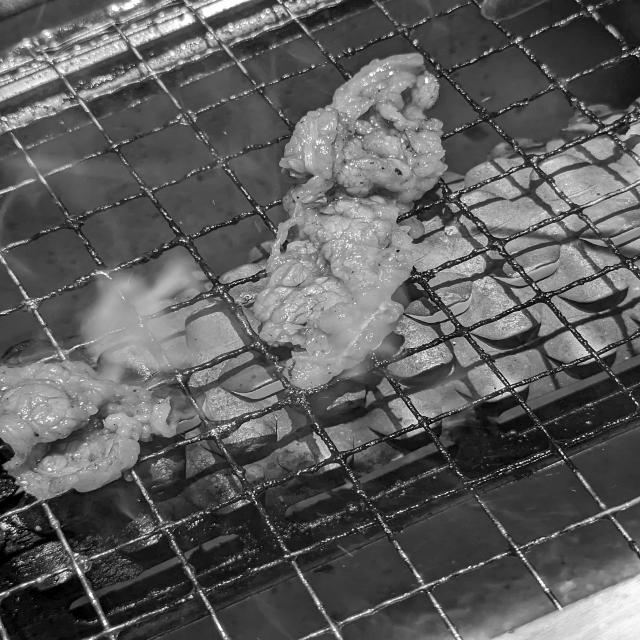OK cooked beef,: (227, 45, 463, 404), (0, 359, 234, 522)
